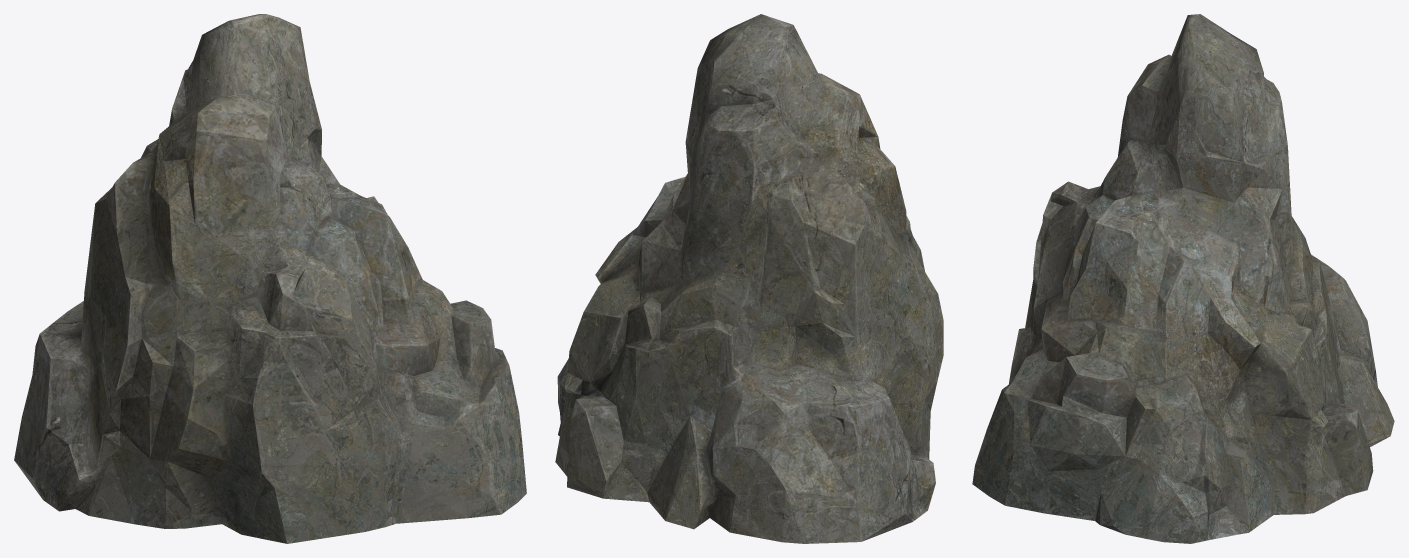
File: bg_anh_stone_commonstone02_sm_sup.FBX
The picture shows the model from 3 angles, left to right: view 1: azimuth 30°, elevation 25°; view 2: azimuth 150°, elevation 25°; view 3: azimuth 270°, elevation 25°; orthographic projection. The views are drawn at different scales.
Parts seen in each view (by area): view 1: bg_anh_stone_commonstone02_sm_sup; view 2: bg_anh_stone_commonstone02_sm_sup; view 3: bg_anh_stone_commonstone02_sm_sup.
Part boxes in pixels (box(x1,y1,x2,y2)): bg_anh_stone_commonstone02_sm_sup: box(14, 14, 526, 543); bg_anh_stone_commonstone02_sm_sup: box(555, 14, 943, 543); bg_anh_stone_commonstone02_sm_sup: box(972, 14, 1394, 543).
Bounding box in the file's own units: 212 × 231 × 208.
